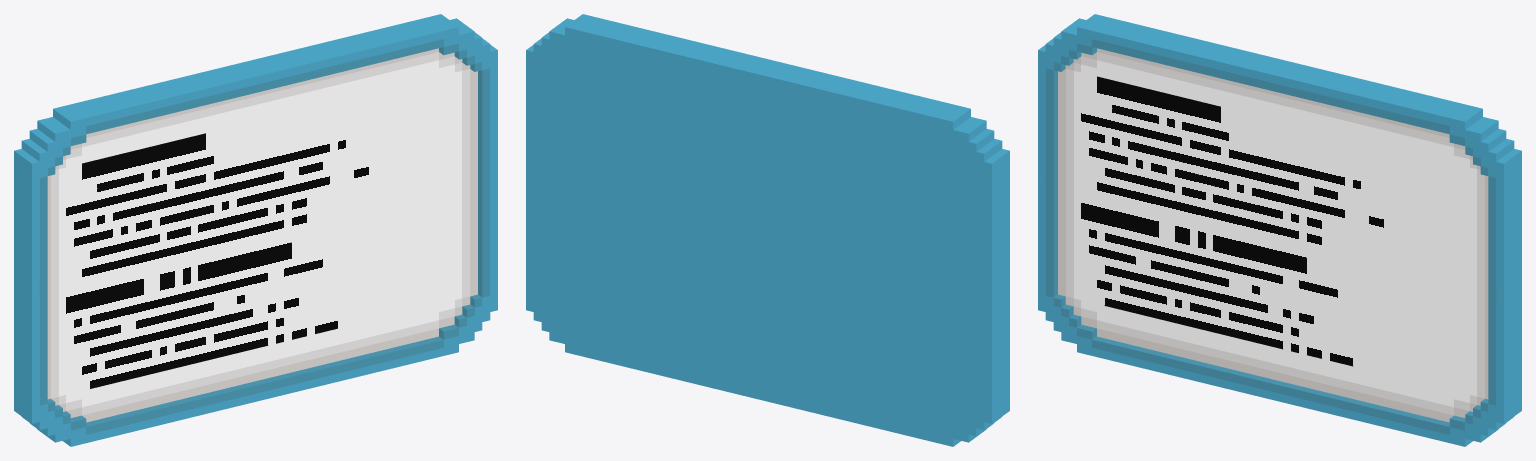
File: 公告栏.gltf
3 views of the same model, side by side, from view 1: azimuth 30°, elevation 25°; view 2: azimuth 150°, elevation 25°; view 3: azimuth 330°, elevation 25° (orthographic).
Visible parts, largest first — view 1: Object; view 2: Object; view 3: Object.
Part boxes in pixels (x1=…): Object: x1=14, y1=14, x2=497, y2=446; Object: x1=526, y1=14, x2=1009, y2=446; Object: x1=1038, y1=14, x2=1521, y2=446.
Bounding box in the file's own units: 60 × 40 × 4.
Materials: 1 (1 with a texture image).
